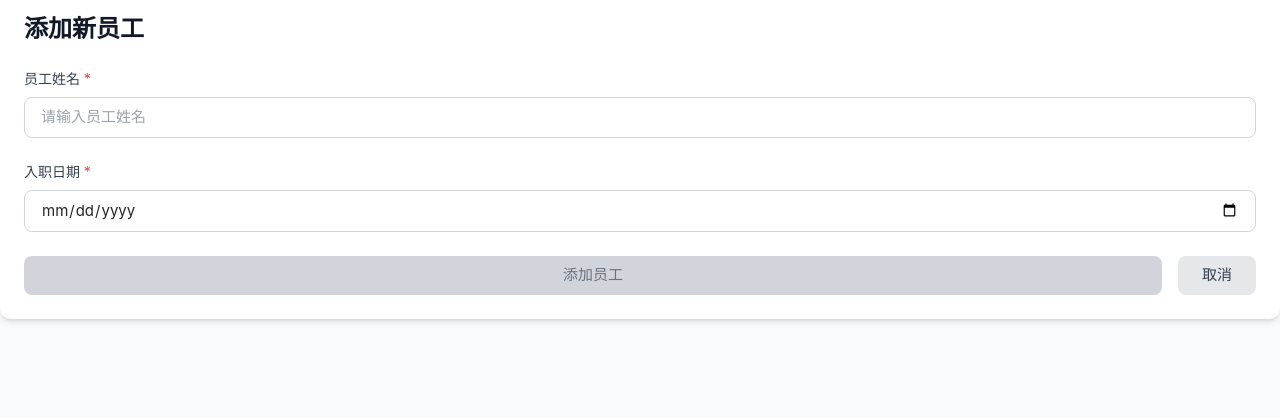
Test: EmployeeForm.vue › 表单验证失败 › 添加员工抛出异常时应该显示错误
Type "张三" into the field with id "name" at x=640, y=117, box [24,97,1256,138]
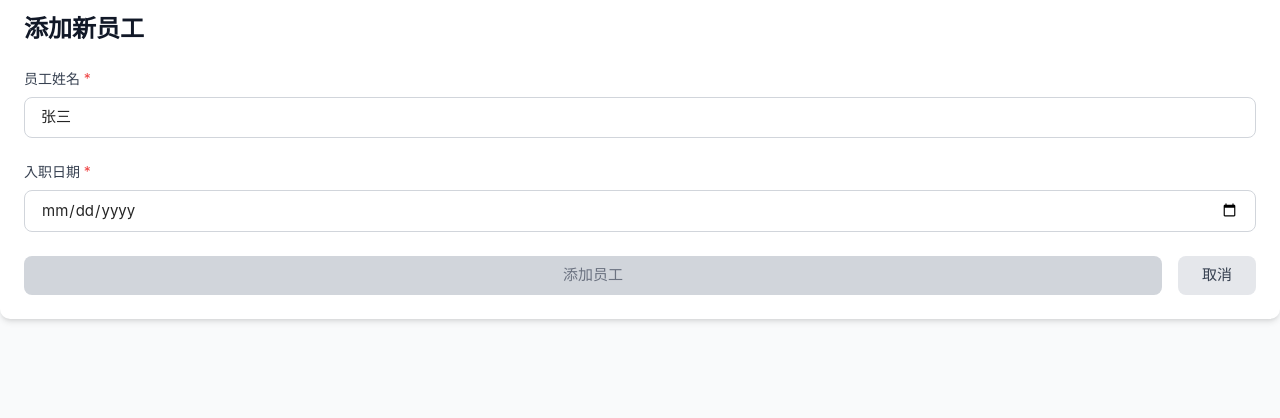
Type "2023-05-15" into the date field with id "hireDate" at x=640, y=211, box [24,190,1256,232]
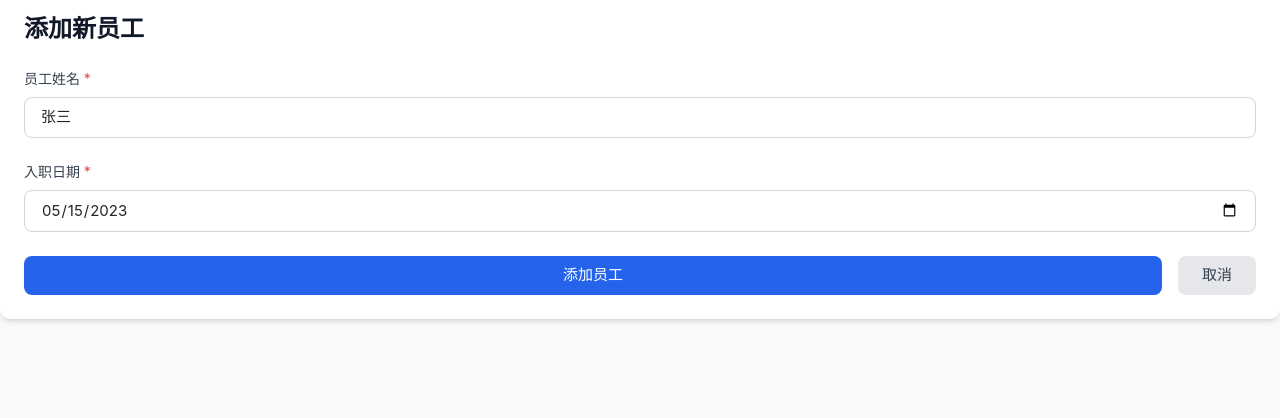
Submit the form, box [24,69,1256,294]
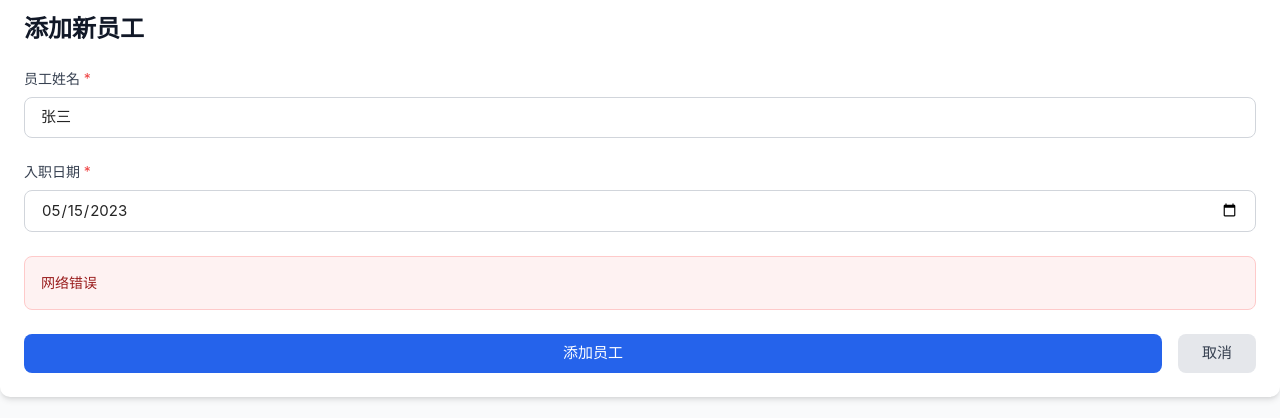
Expected: the text "网络错误" is shown, [41,274,97,291]
